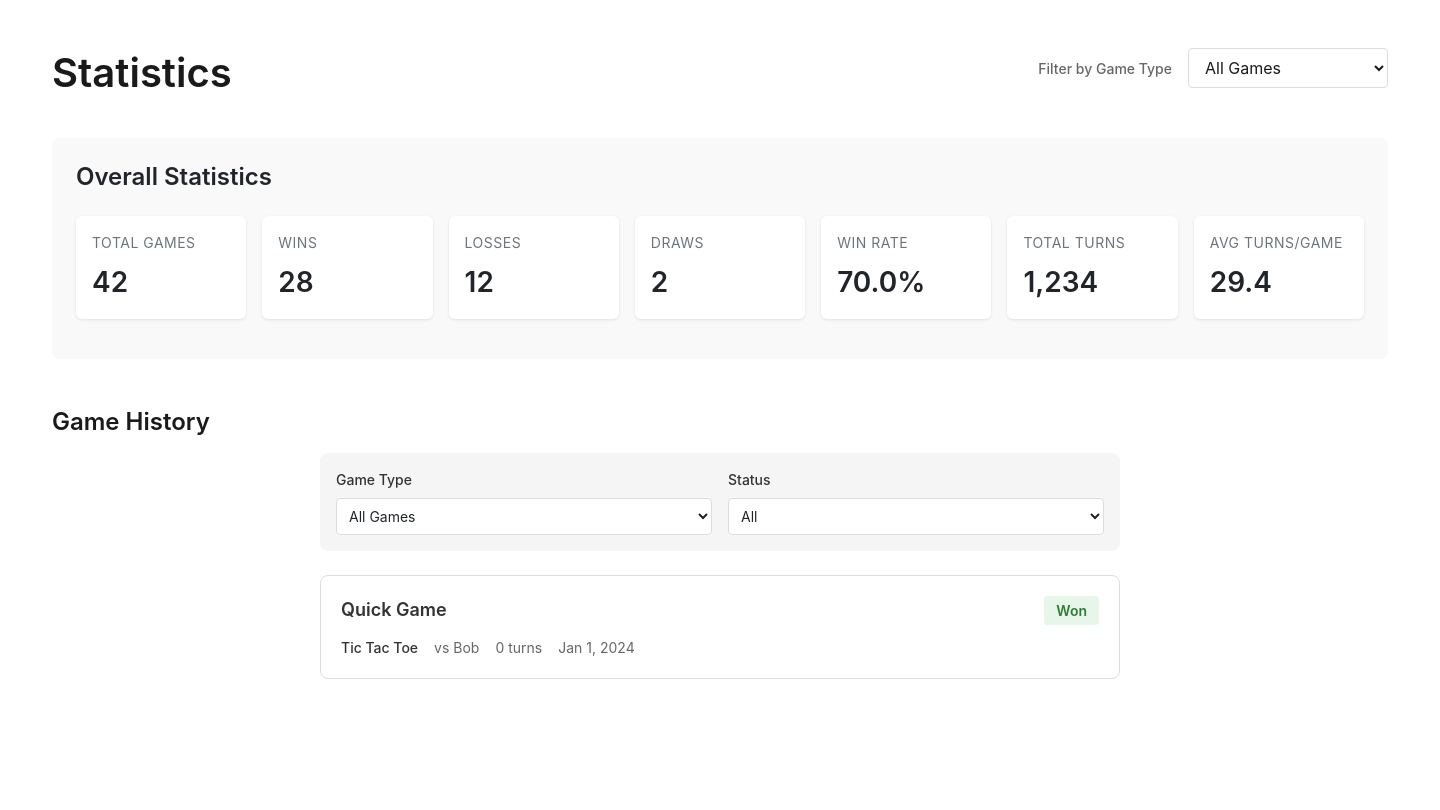
Test: StatsView › Loading States › should show loading state when filter changes
Expected: the text "42" is shown, top-left (92, 265), bottom-right (128, 299)
Select "Tic Tac Toe" in the dropdown labelled "Filter by Game Type" at coordinates (1288, 68), box top-left (1188, 48), bottom-right (1388, 88)
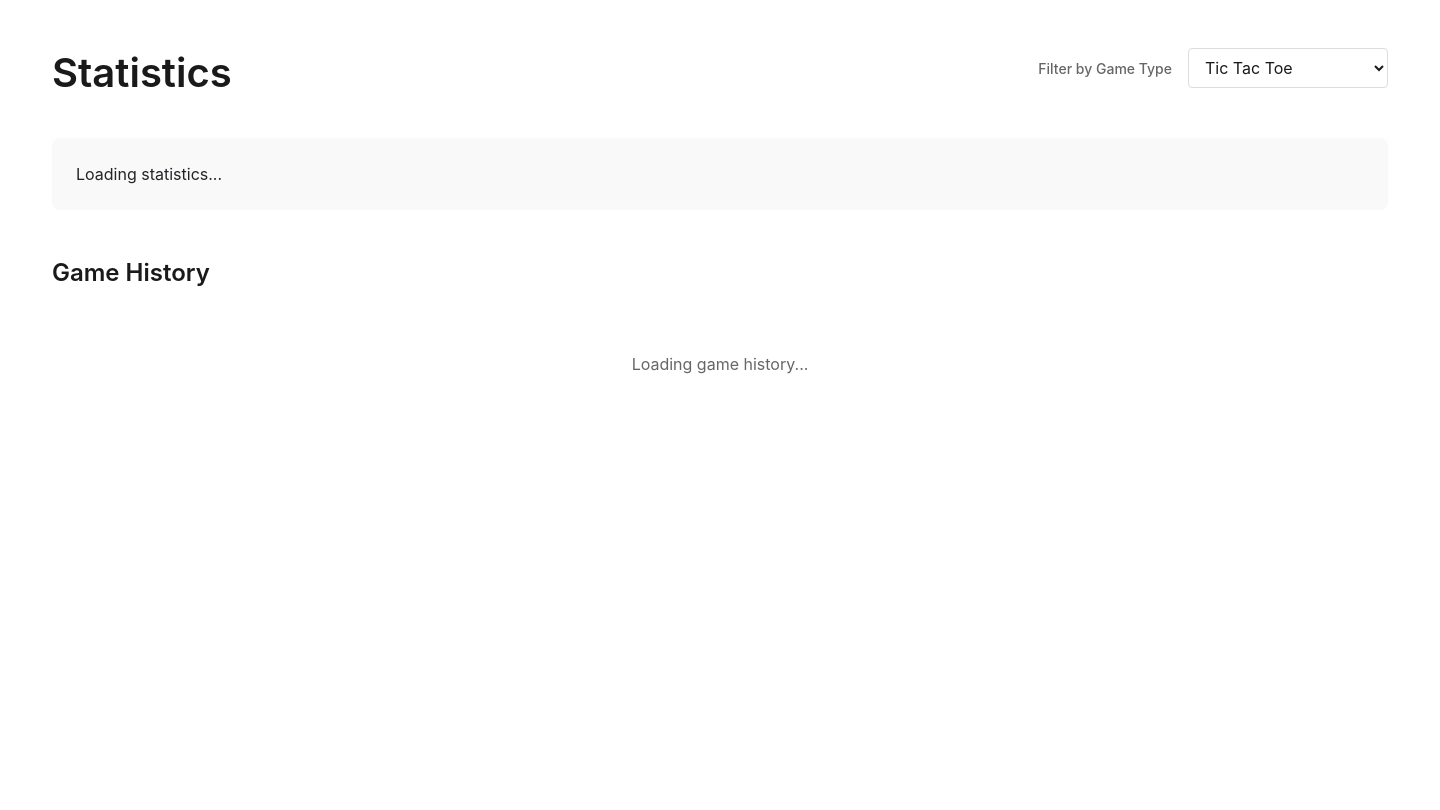
Expected: the text "Loading statistics..." is shown, top-left (76, 164), bottom-right (222, 184)
